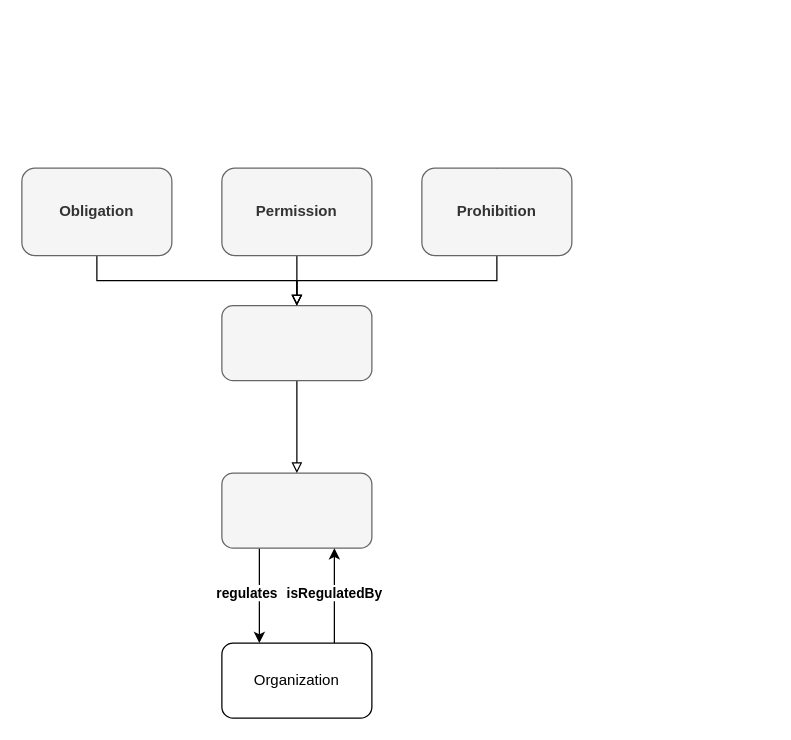
This 791x740 diagram has some shape labels left out. The shapes that lost their labels are listed below. From the top down, each one's centre as x and y in pixels, then its label:
At (296,342): "Regulative Norm".
At (296,510): "Regulation".
